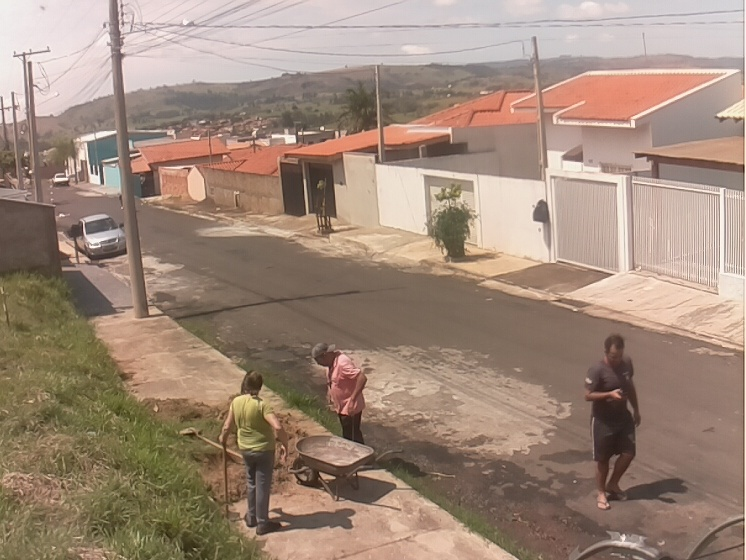person: (218, 369, 285, 534), (583, 333, 642, 511), (311, 341, 368, 452)
